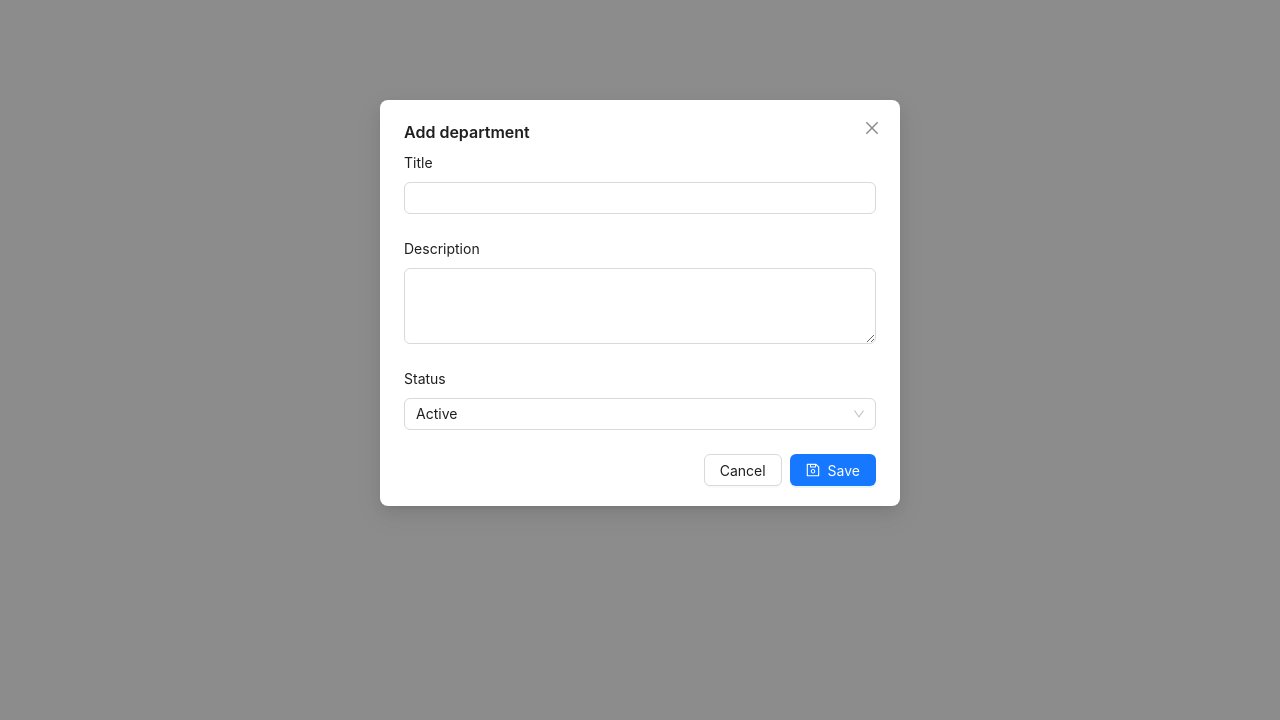
Test case: DepartmentFormModal › requires the mandatory fields
Click the button "Save" at (833, 470), box x1=790 y1=454 x2=876 y2=486
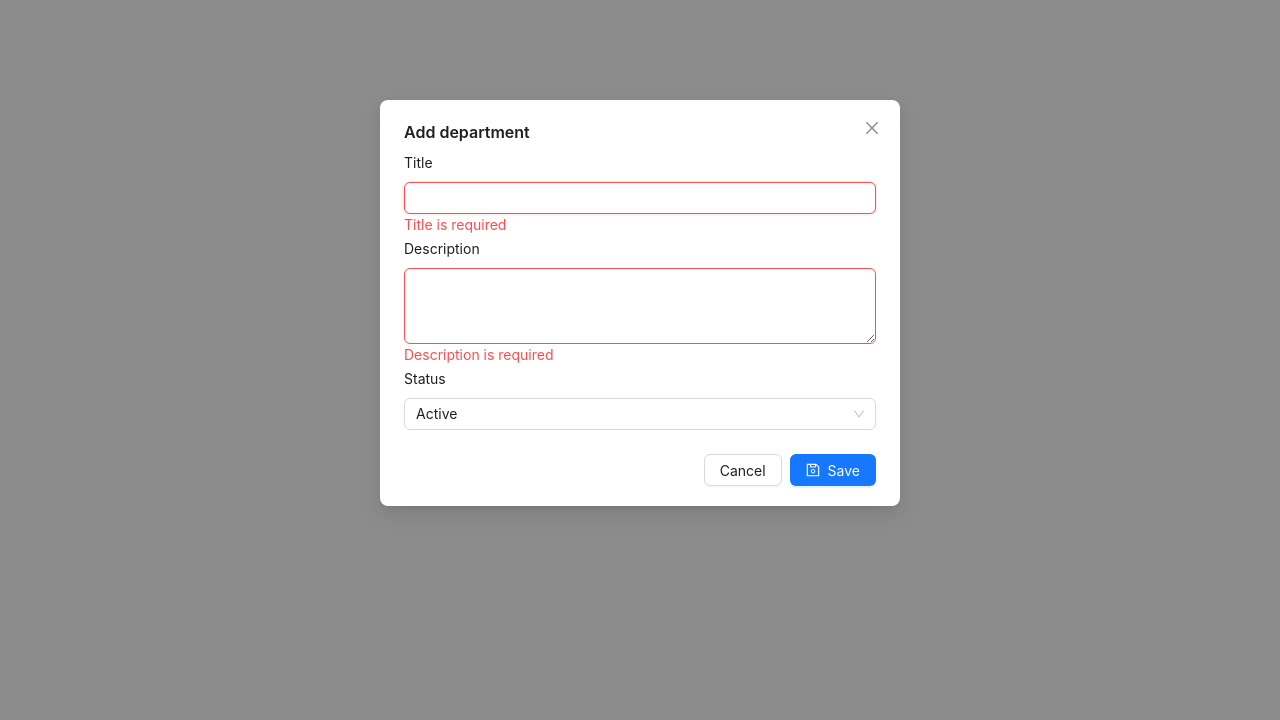
Result: the text "Title is required" is shown at x1=404 y1=216 x2=506 y2=233
Result: the text "Description is required" is shown at x1=404 y1=346 x2=554 y2=363
